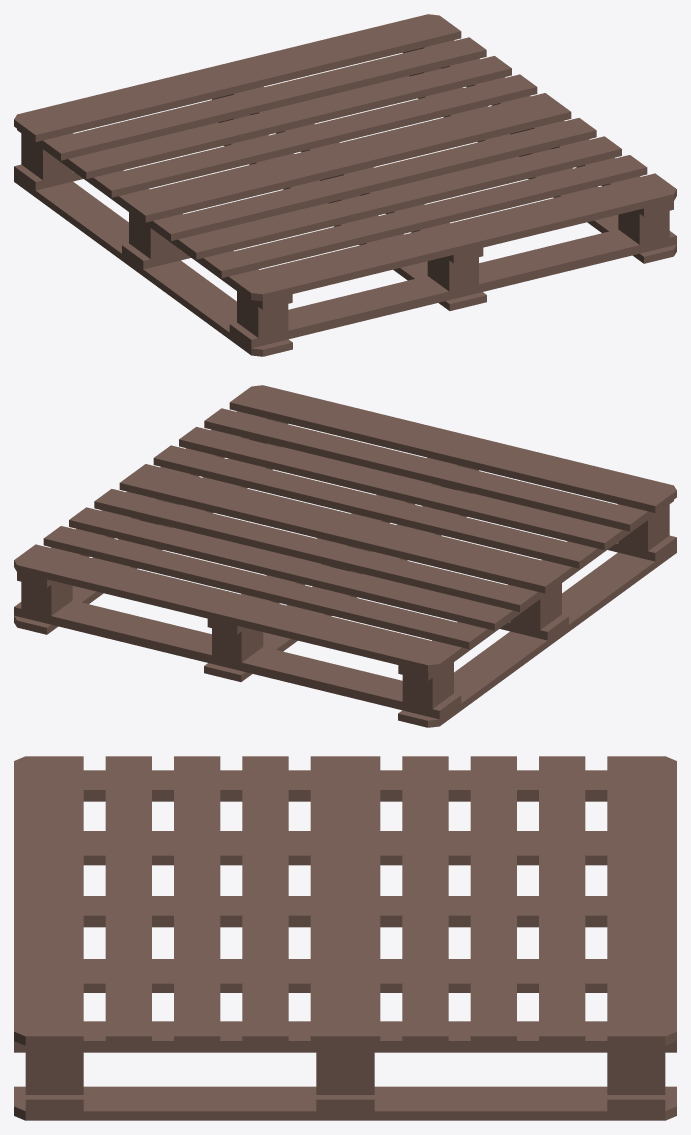
File: Pallete.fbx
3 views of the same model, one above another, from view 1: azimuth 30°, elevation 25°; view 2: azimuth 150°, elevation 25°; view 3: azimuth 270°, elevation 25° (orthographic). The views are drawn at different scales.
Visible parts, largest first — view 1: Group1; view 2: Group1; view 3: Group1.
Boxes of the visible parts, x1,y1,x2,y2 form: Group1: (14, 14, 676, 356); Group1: (14, 385, 676, 727); Group1: (14, 756, 676, 1120).
Size of the model in its own units: 1140 by 160 by 1140.
